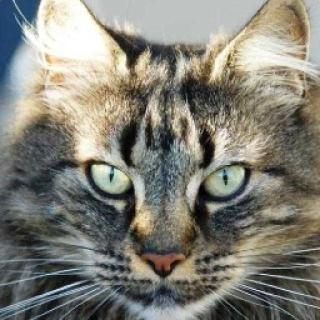cat: (28, 6, 314, 316)
nose: (130, 206, 190, 282)
